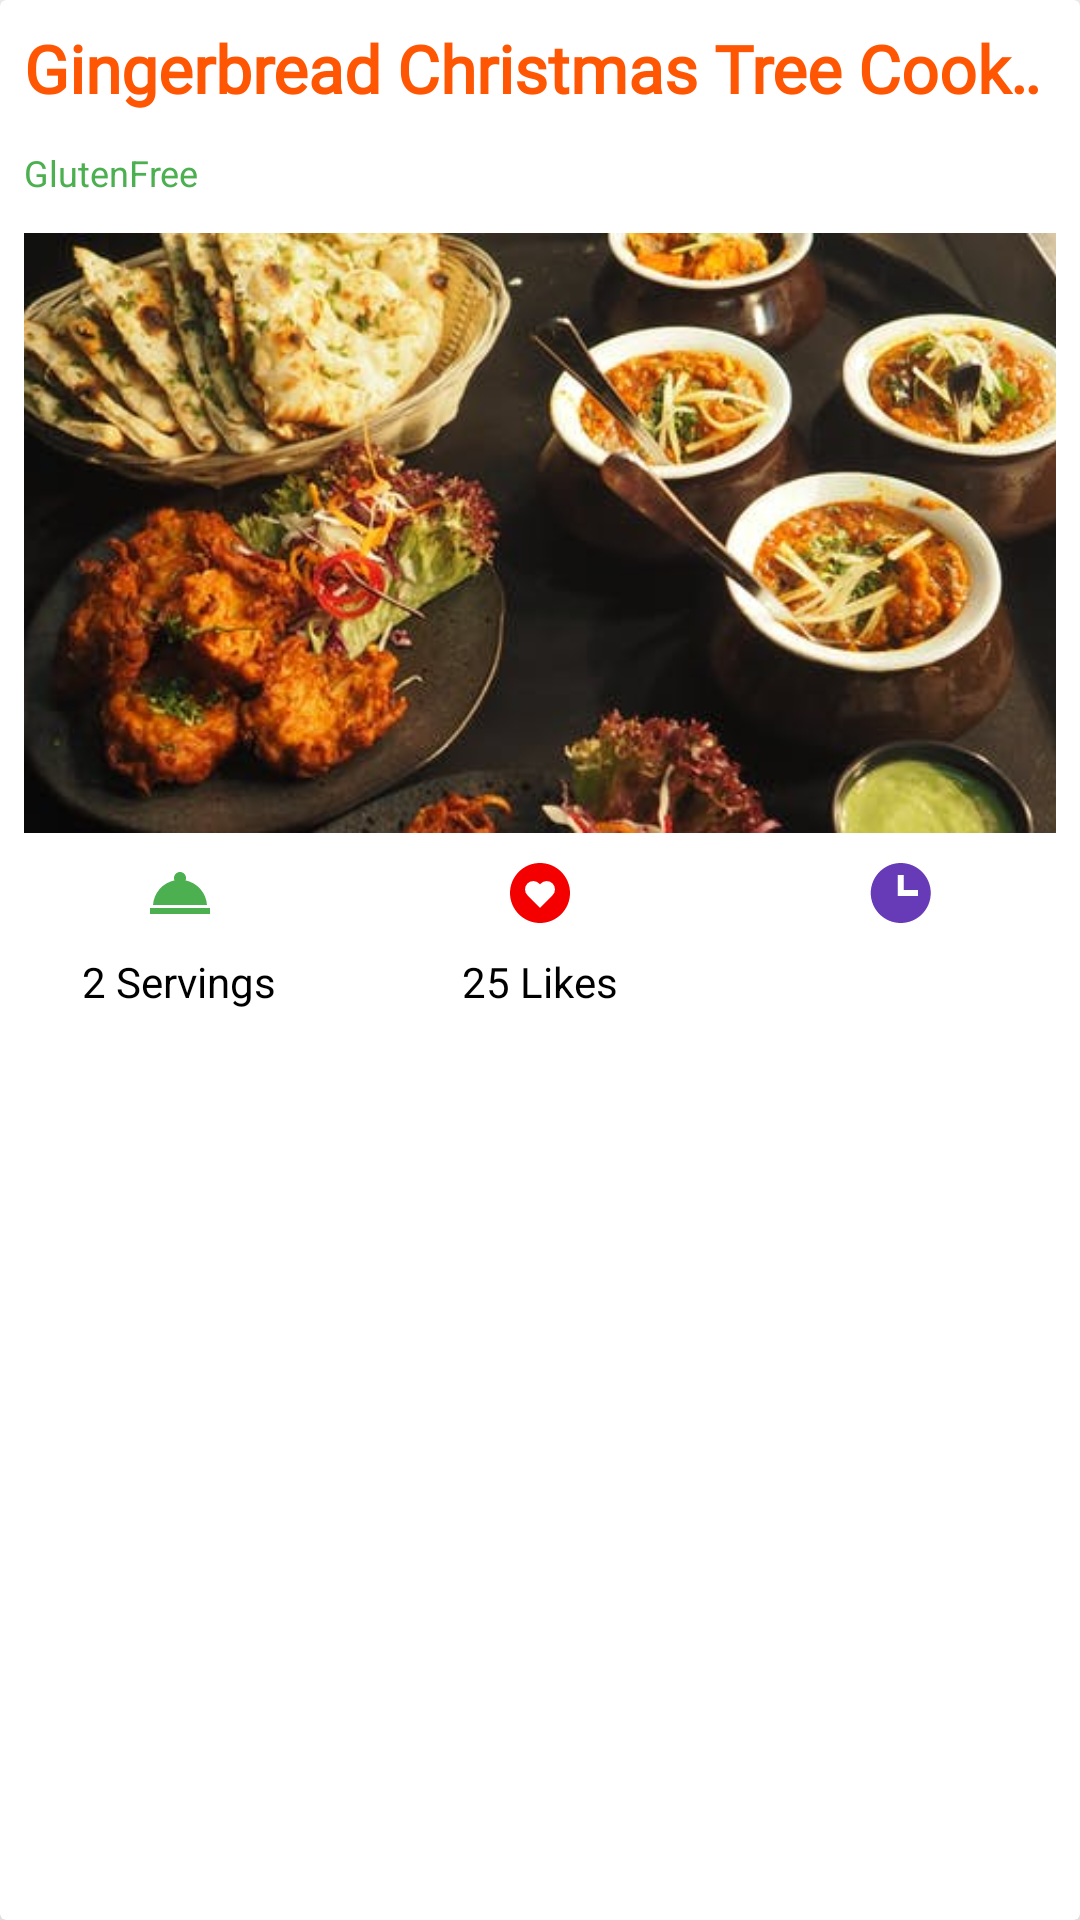

Screen size 1080px×1920px. Icon name, then its box in pixels as (x1, y1, x2, y2):
heart: (510, 863, 570, 923)
time: (870, 863, 931, 923)
